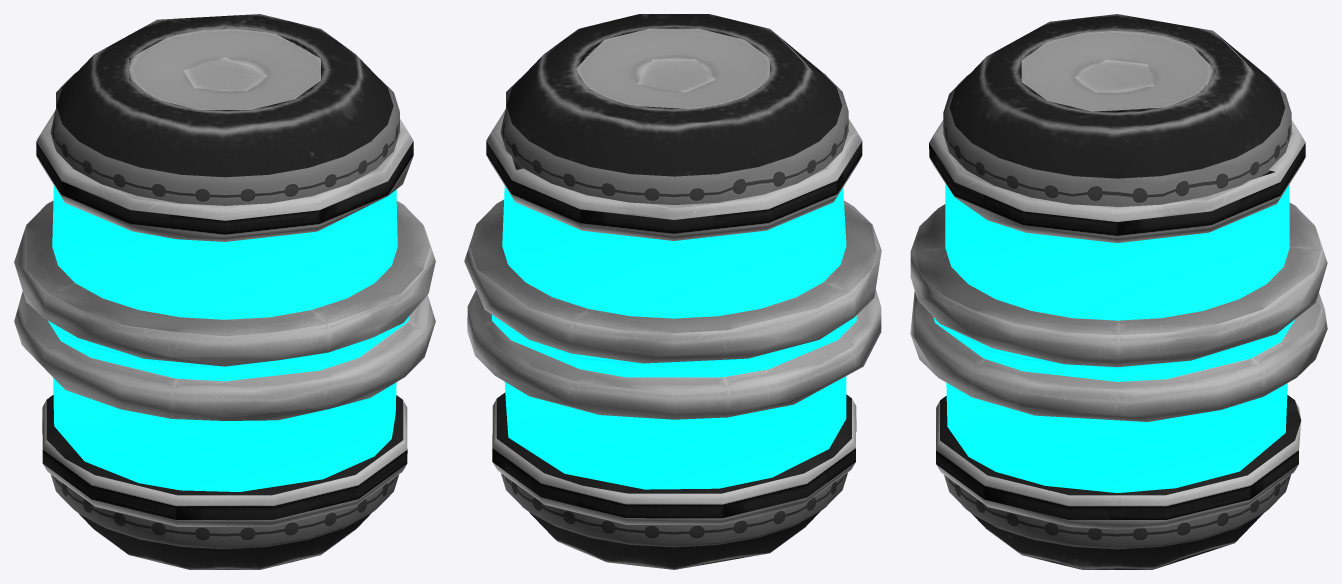
The model's file is FUT0110003.fbx.
The picture shows the model from 3 angles, left to right: view 1: azimuth 30°, elevation 25°; view 2: azimuth 150°, elevation 25°; view 3: azimuth 270°, elevation 25°; orthographic projection.
Visible parts, largest first — view 1: smFUT0110003; view 2: smFUT0110003; view 3: smFUT0110003.
Part boxes in pixels (x1,y1,x2,y2): smFUT0110003: [14, 14, 435, 569]; smFUT0110003: [464, 14, 881, 569]; smFUT0110003: [910, 14, 1327, 569].
Size of the model in its own units: 97.96 by 114 by 97.27.
Materials: 1 (1 with a texture image).
